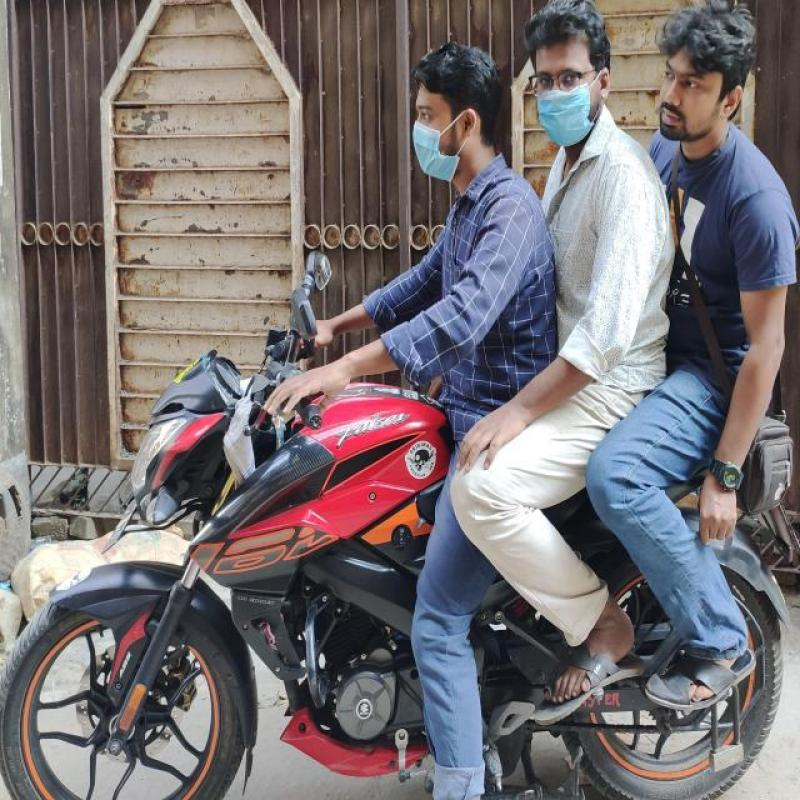nohelmet: (650, 2, 748, 150), (401, 43, 490, 198), (529, 2, 615, 152)
